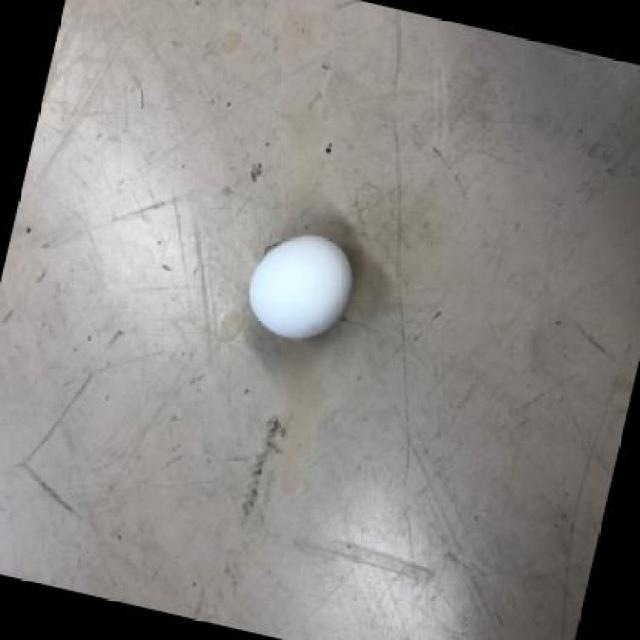egg: (245, 232, 359, 350)
